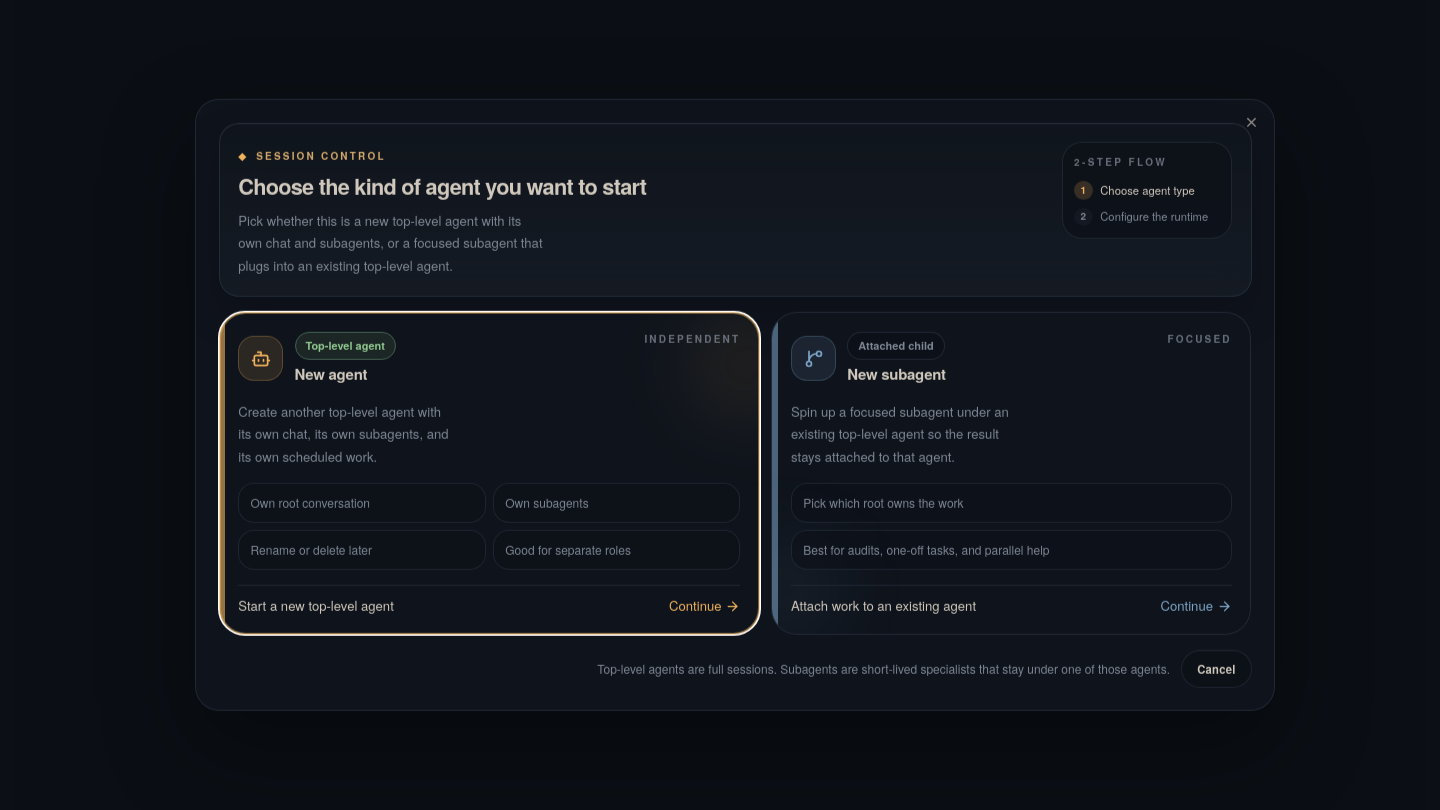
SpawnAgentDialog › shows After run only for subagents and defaults it to Keep
Click the text "New subagent" at (897, 375), box [847,363,946,386]
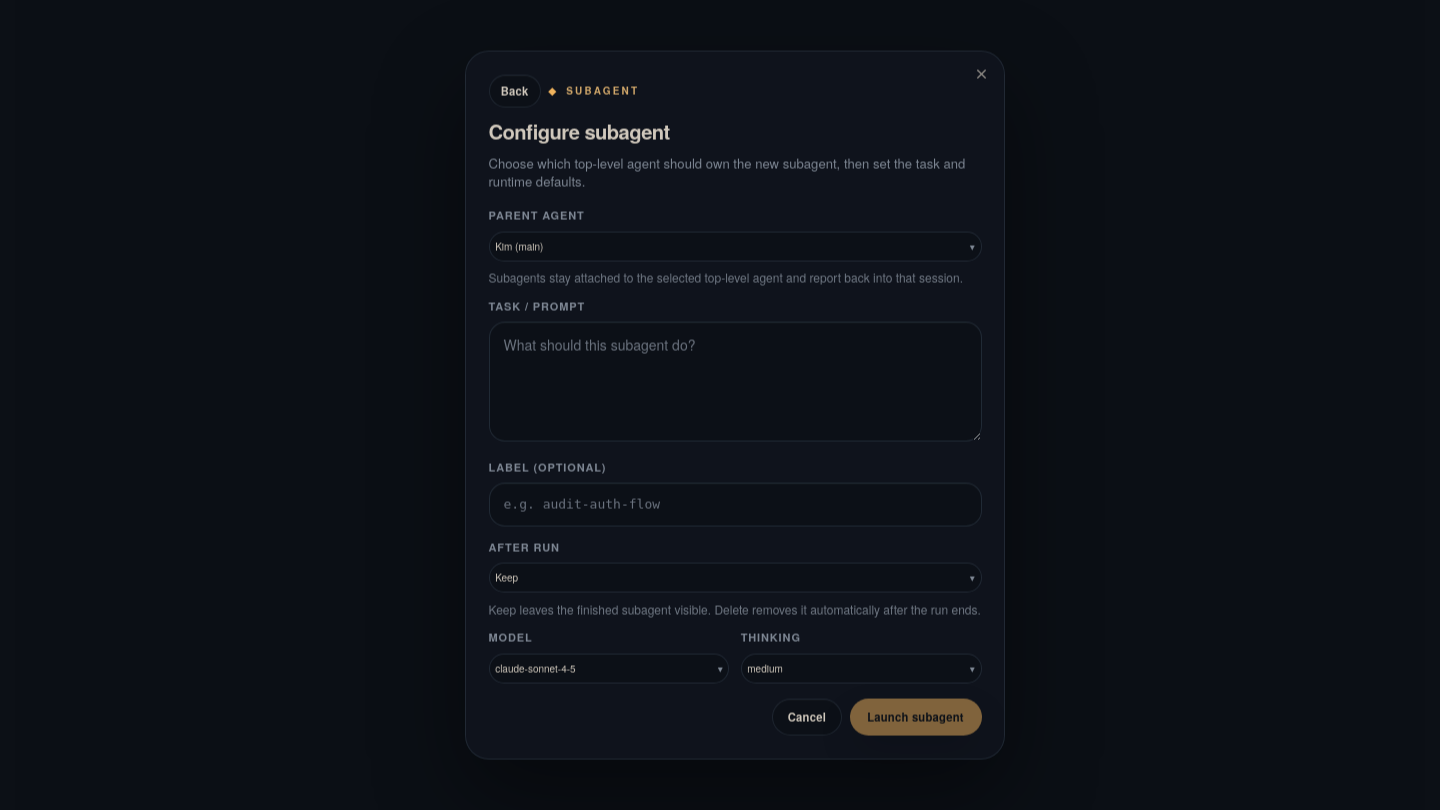
Result: the button with aria-label "After run" shows "Keep" at [488,563,982,593]
